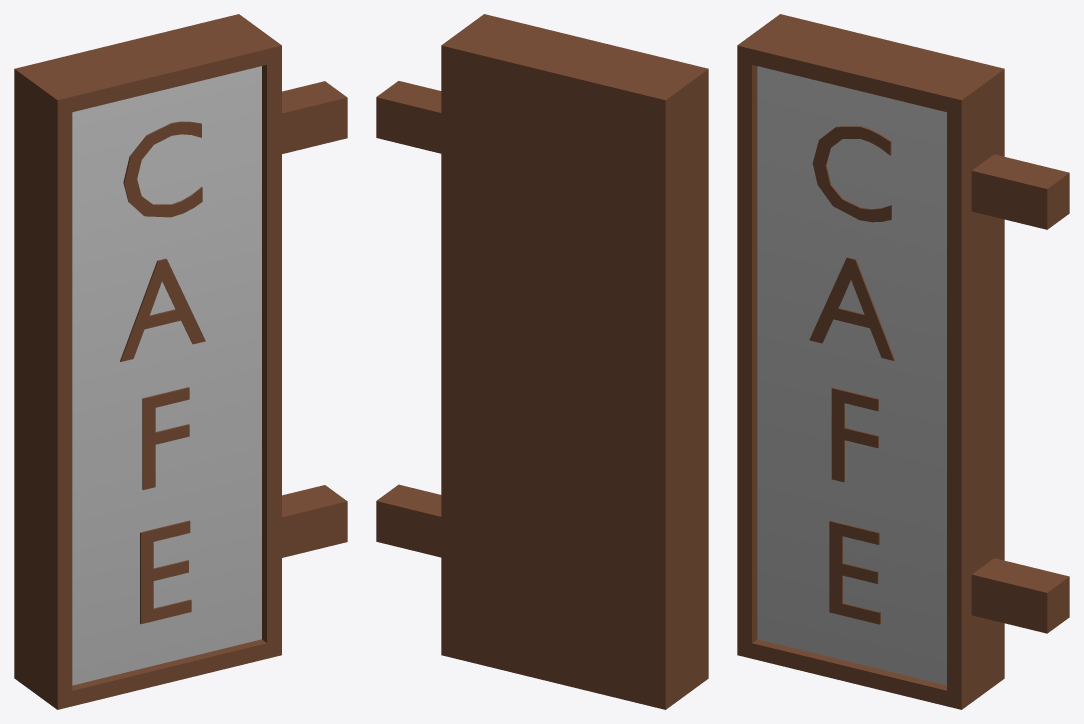
File: Banner_02.fbx
The picture shows the model from 3 angles, left to right: view 1: azimuth 30°, elevation 25°; view 2: azimuth 150°, elevation 25°; view 3: azimuth 330°, elevation 25°; orthographic projection.
Visible parts, largest first — view 1: Banner_02; view 2: Banner_02; view 3: Banner_02.
Boxes of the visible parts, x1,y1,x2,y2 form: Banner_02: (14, 14, 347, 709); Banner_02: (376, 14, 708, 709); Banner_02: (737, 14, 1069, 709).
Size of the model in its own units: 113 by 219 by 28.01.
